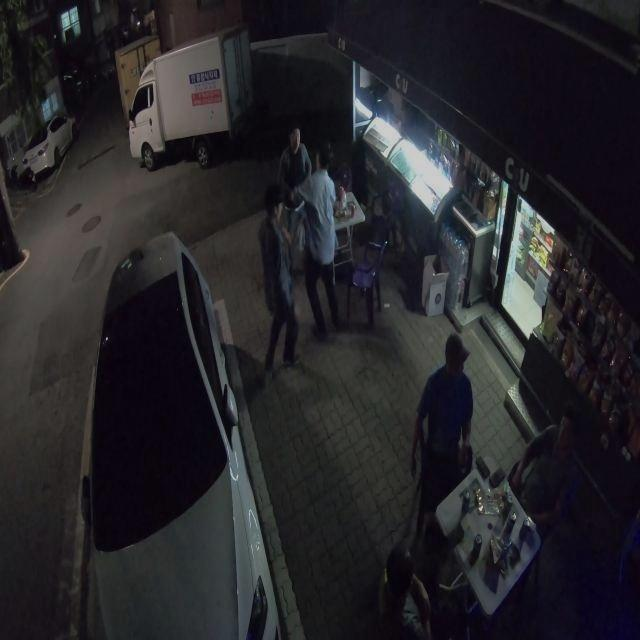fight: (284, 144, 346, 340), (272, 124, 314, 275)
non-fight: (411, 330, 476, 518), (254, 185, 305, 388), (507, 408, 586, 534)
